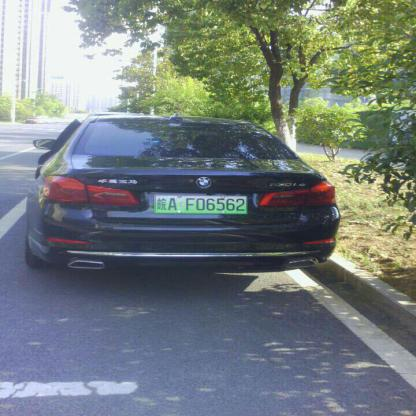lp: (154, 193, 247, 214)
